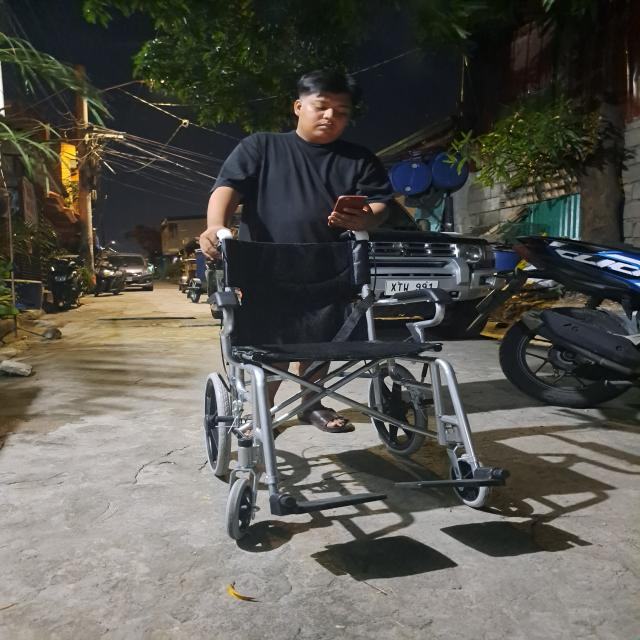wheelchairs: (187, 225, 520, 549)
